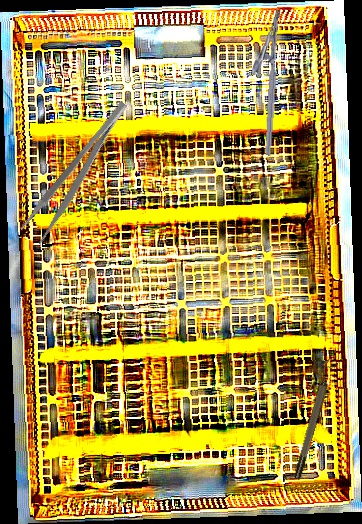Dressing Forceps: (17, 98, 142, 246)
Fixation Ring: (286, 357, 339, 481)
Needle Holder: (244, 7, 283, 156)
